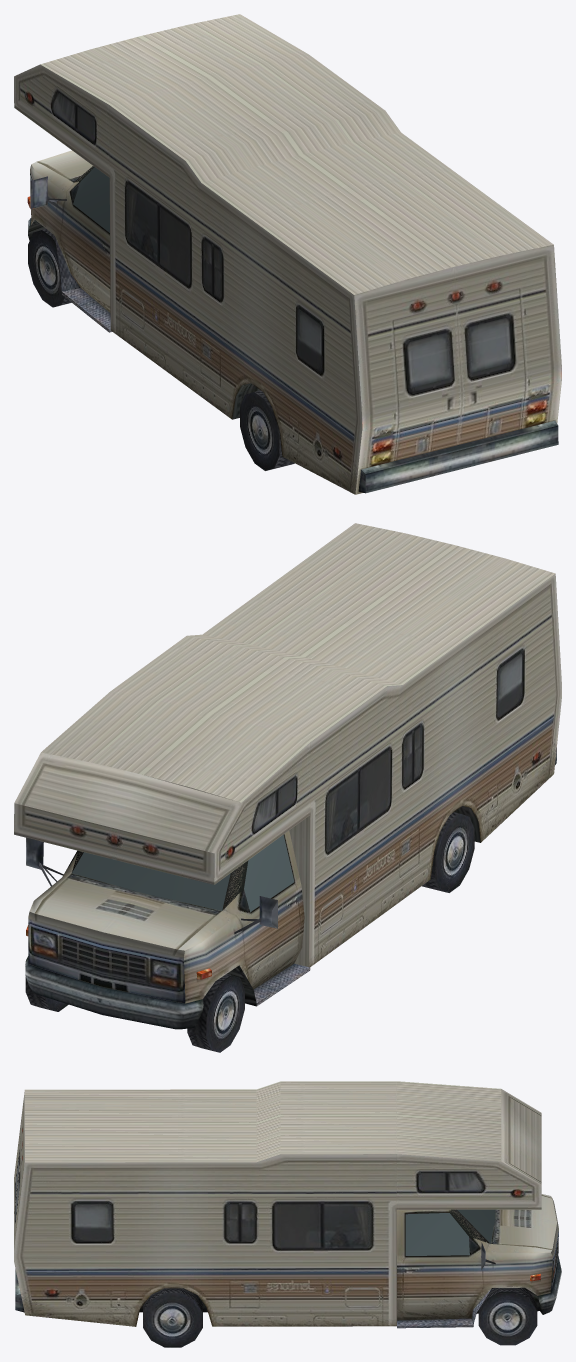
File: p54_31_rv_class_a_beige.glb
3 renders of one model, top to bottom at view 1: azimuth 30°, elevation 25°; view 2: azimuth 150°, elevation 25°; view 3: azimuth 270°, elevation 25°, orthographic. The views are drawn at different scales.
Visible parts, largest first — view 1: Body, Glass; view 2: Body, Glass; view 3: Body, Glass.
Part boxes in pixels (bbox=[...]): Body: bbox=[14, 14, 561, 494]; Glass: bbox=[73, 167, 109, 232]; Body: bbox=[14, 523, 561, 1052]; Glass: bbox=[72, 835, 294, 912]; Body: bbox=[14, 1081, 561, 1347]; Glass: bbox=[405, 1209, 495, 1255].
Size of the model in its own units: 2.95 by 2.91 by 7.33.
2 materials, 2 textured.
